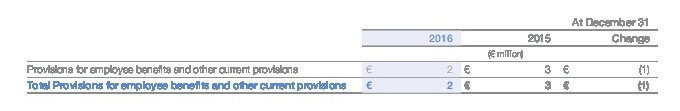table: (0, 0, 680, 111)
